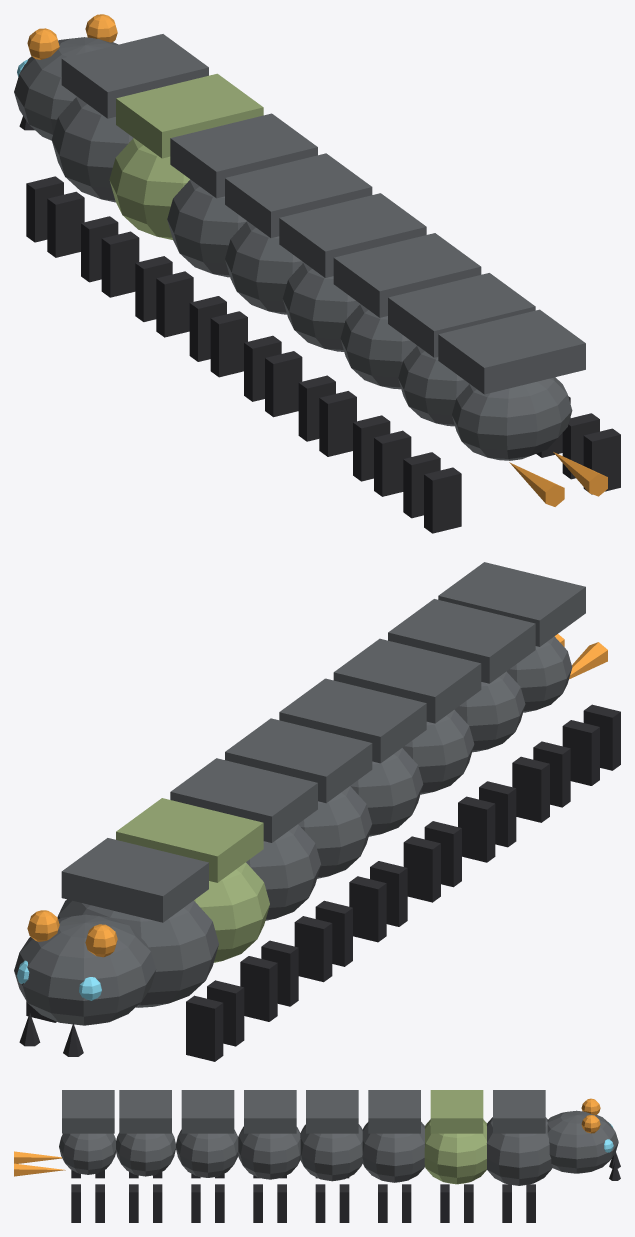
The model's file is SM_Unit_SoilCreeper.glb.
3 views of the same model, one above another, from view 1: azimuth 30°, elevation 25°; view 2: azimuth 150°, elevation 25°; view 3: azimuth 270°, elevation 25° (orthographic). The views are drawn at different scales.
Parts seen in each view (by area): view 1: SM_Unit_SoilCreeper; view 2: SM_Unit_SoilCreeper; view 3: SM_Unit_SoilCreeper.
Boxes of the visible parts, x1=… form: SM_Unit_SoilCreeper: x1=14, y1=14, x2=620, y2=533; SM_Unit_SoilCreeper: x1=14, y1=562, x2=620, y2=1061; SM_Unit_SoilCreeper: x1=14, y1=1090, x2=620, y2=1222.
Size of the model in its own units: 0.52 by 0.425 by 2.53.
